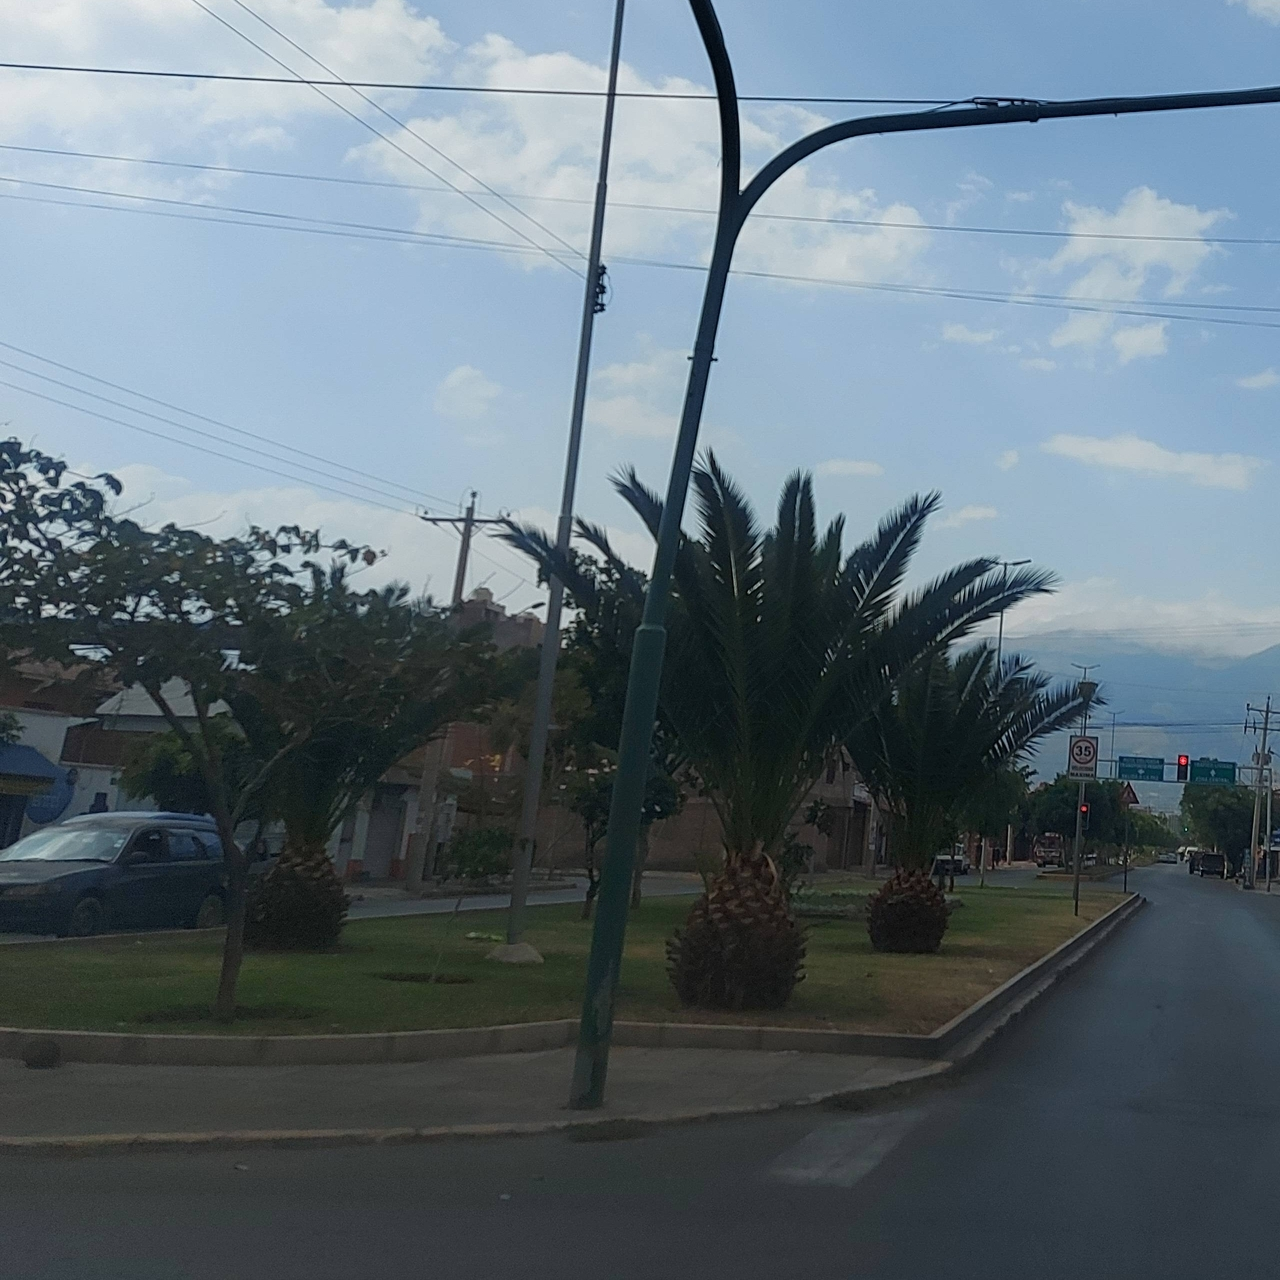limite-velocidad-35: (1065, 734, 1099, 781)
paso-peatonal: (1117, 783, 1141, 805)
